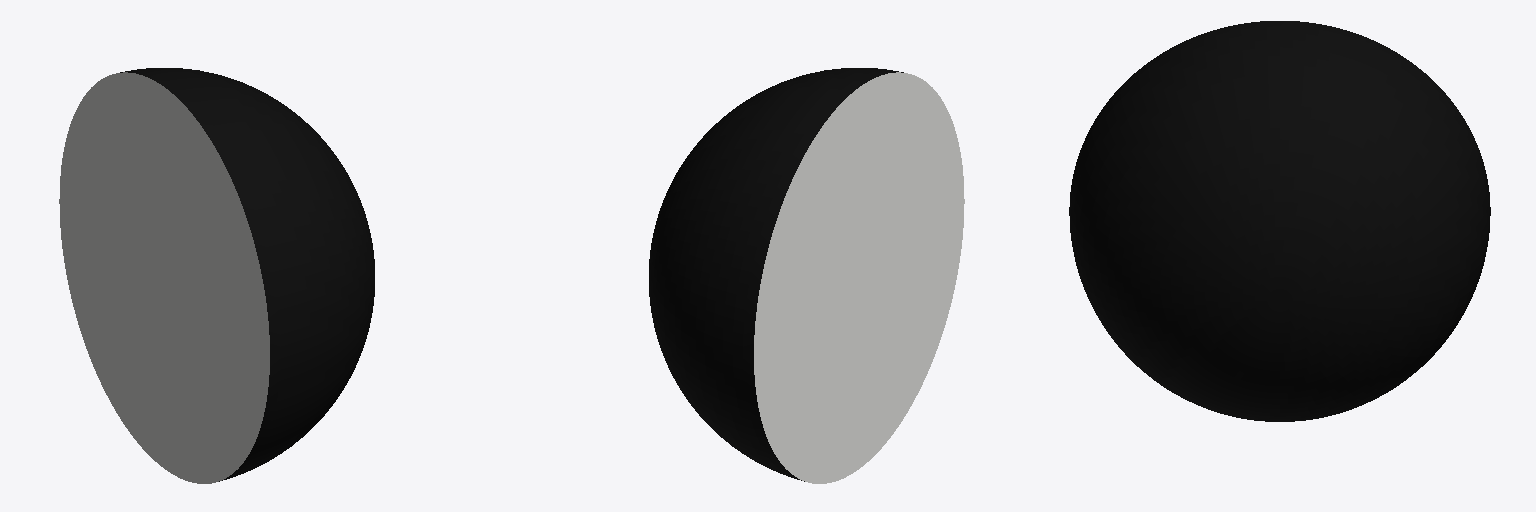
Rendered from half_black.obj.
3 renders of one model, left to right at view 1: azimuth 30°, elevation 25°; view 2: azimuth 150°, elevation 25°; view 3: azimuth 270°, elevation 25°, orthographic.
Visible parts, largest first — view 1: Body1; view 2: Body1; view 3: Body1.
Part boxes in pixels (x1,y1,x2,y2): Body1: (59,68,374,483); Body1: (649,68,964,483); Body1: (1069,21,1490,421).
Size of the model in its own units: 2.5 by 5 by 5.